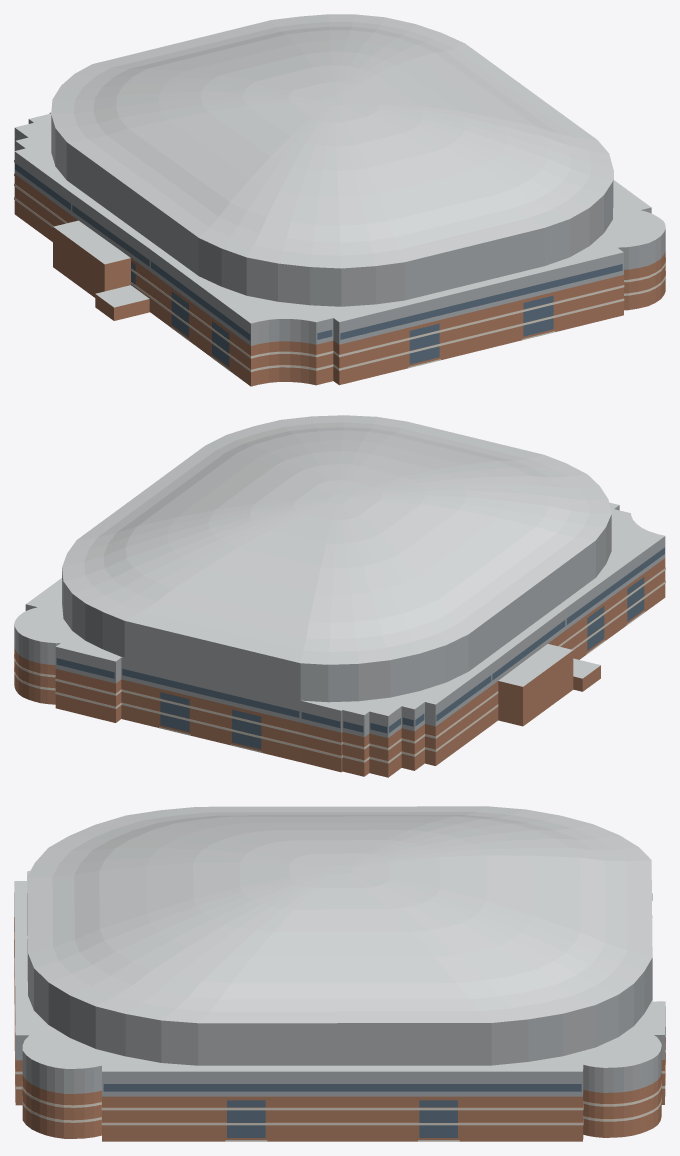
File: stl-dome.glb
The picture shows the model from 3 angles, top to bottom: view 1: azimuth 30°, elevation 25°; view 2: azimuth 150°, elevation 25°; view 3: azimuth 270°, elevation 25°; orthographic projection. The views are drawn at different scales.
Visible parts, largest first — view 1: The Dome at America's Center; view 2: The Dome at America's Center; view 3: The Dome at America's Center.
Part boxes in pixels (bbox=[...]): The Dome at America's Center: bbox=[14, 14, 665, 386]; The Dome at America's Center: bbox=[14, 415, 665, 777]; The Dome at America's Center: bbox=[14, 806, 665, 1141].
Size of the model in its own units: 212 by 63 by 236.
